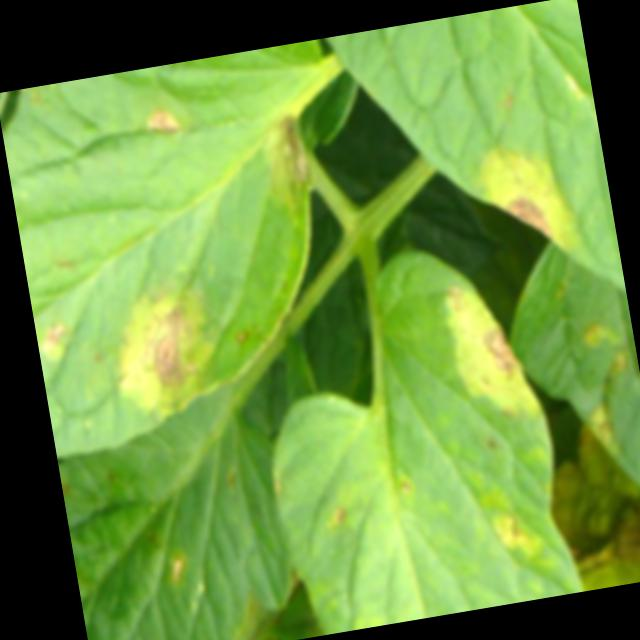Early_blight: (107, 291, 215, 415), (485, 192, 553, 251), (267, 113, 313, 197), (479, 324, 526, 390), (490, 513, 535, 557), (139, 105, 183, 140), (35, 317, 74, 355), (583, 412, 618, 450), (439, 283, 468, 317)
